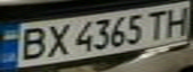3: (90, 16, 115, 51)
4: (72, 18, 96, 53)
5: (124, 11, 151, 45)
6: (109, 14, 133, 47)
B: (9, 25, 51, 62)
H: (160, 3, 193, 38)
T: (142, 8, 172, 39)
X: (39, 21, 72, 59)
